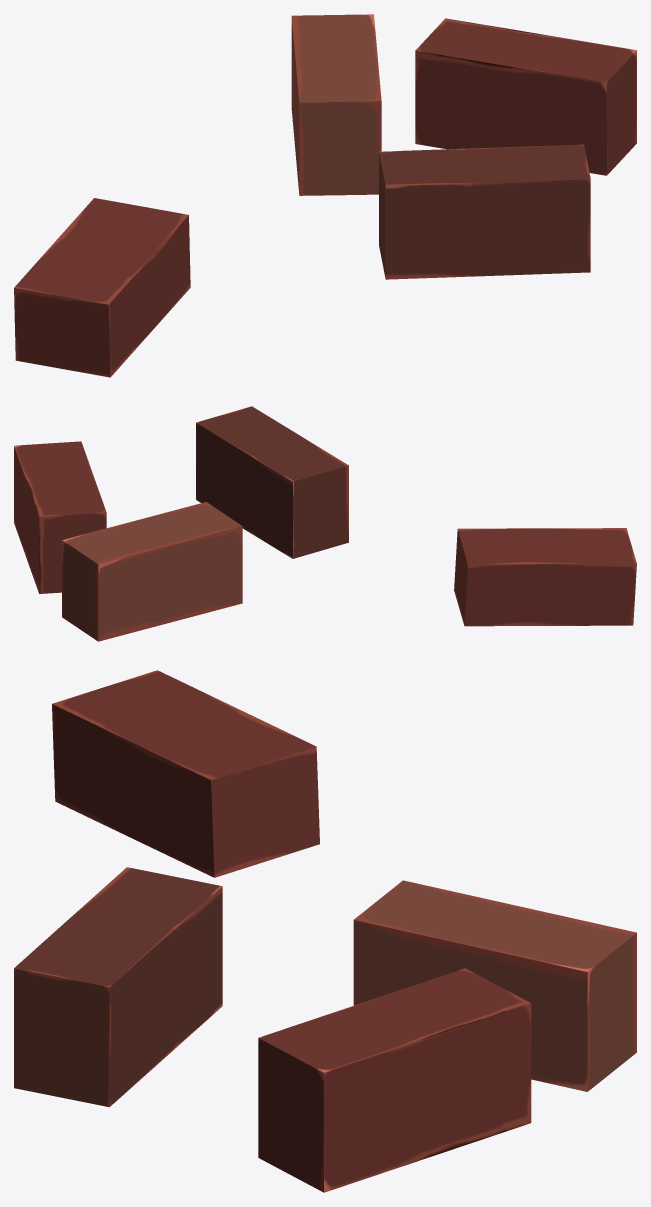
Rendered from debris_bricks04.fbx.
The picture shows the model from 3 angles, top to bottom: view 1: azimuth 30°, elevation 25°; view 2: azimuth 150°, elevation 25°; view 3: azimuth 270°, elevation 25°; orthographic projection. The views are drawn at different scales.
Visible parts, largest first — view 1: debris_bricks04; view 2: debris_bricks04; view 3: debris_bricks04.
Part boxes in pixels (x1,y1,x2,y2): debris_bricks04: [14, 14, 636, 377]; debris_bricks04: [14, 406, 636, 641]; debris_bricks04: [14, 670, 636, 1192].
Bounding box in the file's own units: 193 × 25.97 × 118.
